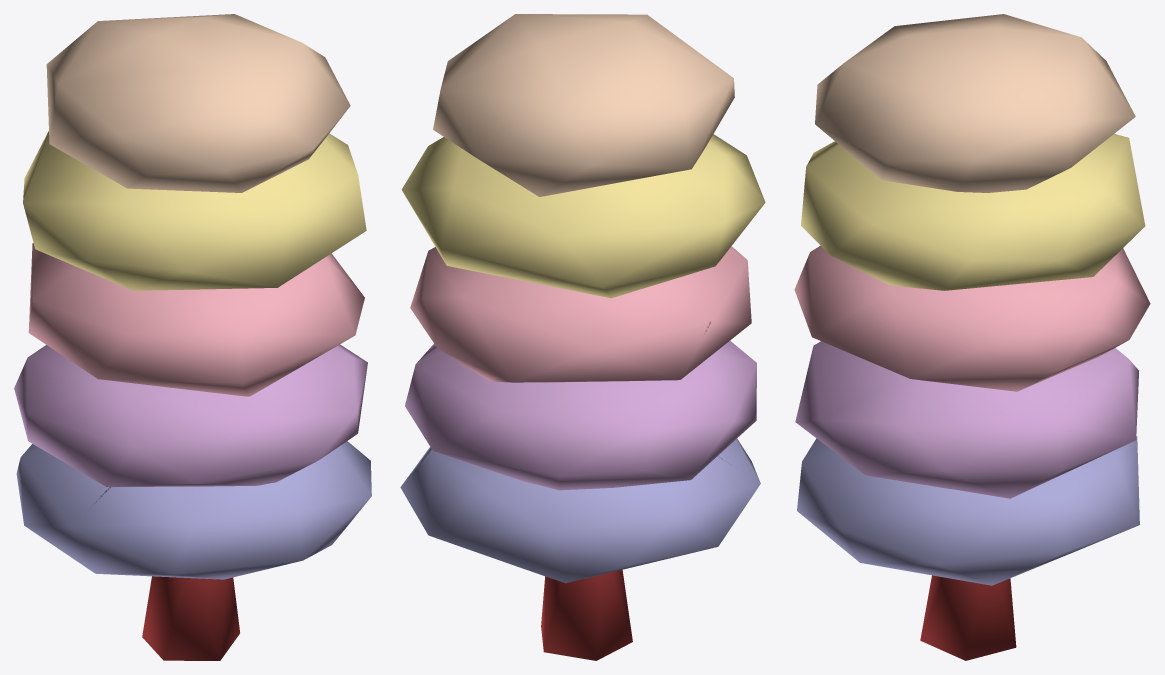
Rendered from tree_candy1.fbx.
3 renders of one model, left to right at view 1: azimuth 30°, elevation 25°; view 2: azimuth 150°, elevation 25°; view 3: azimuth 270°, elevation 25°, orthographic.
Parts seen in each view (by area): view 1: tree1; view 2: tree1; view 3: tree1.
Boxes of the visible parts, x1,y1,x2,y2 form: tree1: [14, 14, 371, 660]; tree1: [400, 14, 765, 660]; tree1: [794, 14, 1150, 660].
Bounding box in the file's own units: 212 × 382 × 206.
